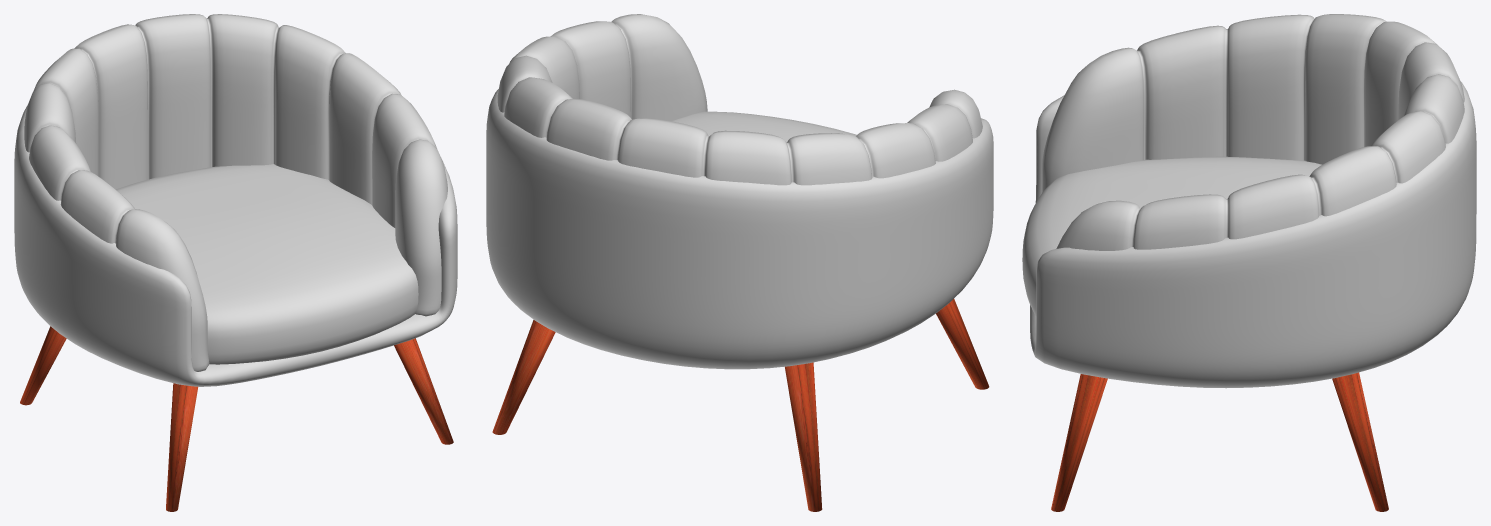
Rendered from Chair_3.glb.
The picture shows the model from 3 angles, left to right: view 1: azimuth 30°, elevation 25°; view 2: azimuth 150°, elevation 25°; view 3: azimuth 270°, elevation 25°; orthographic projection. The views are drawn at different scales.
Parts seen in each view (by area): view 1: Velvet Chair_432; view 2: Velvet Chair_432; view 3: Velvet Chair_432.
Boxes of the visible parts, x1,y1,x2,y2 form: Velvet Chair_432: (14,14,457,511); Velvet Chair_432: (486,14,993,511); Velvet Chair_432: (1022,14,1476,511).
Bounding box in the file's own units: 0.7922 × 0.6735 × 0.761.
Materials: 2 (1 with a texture image).
